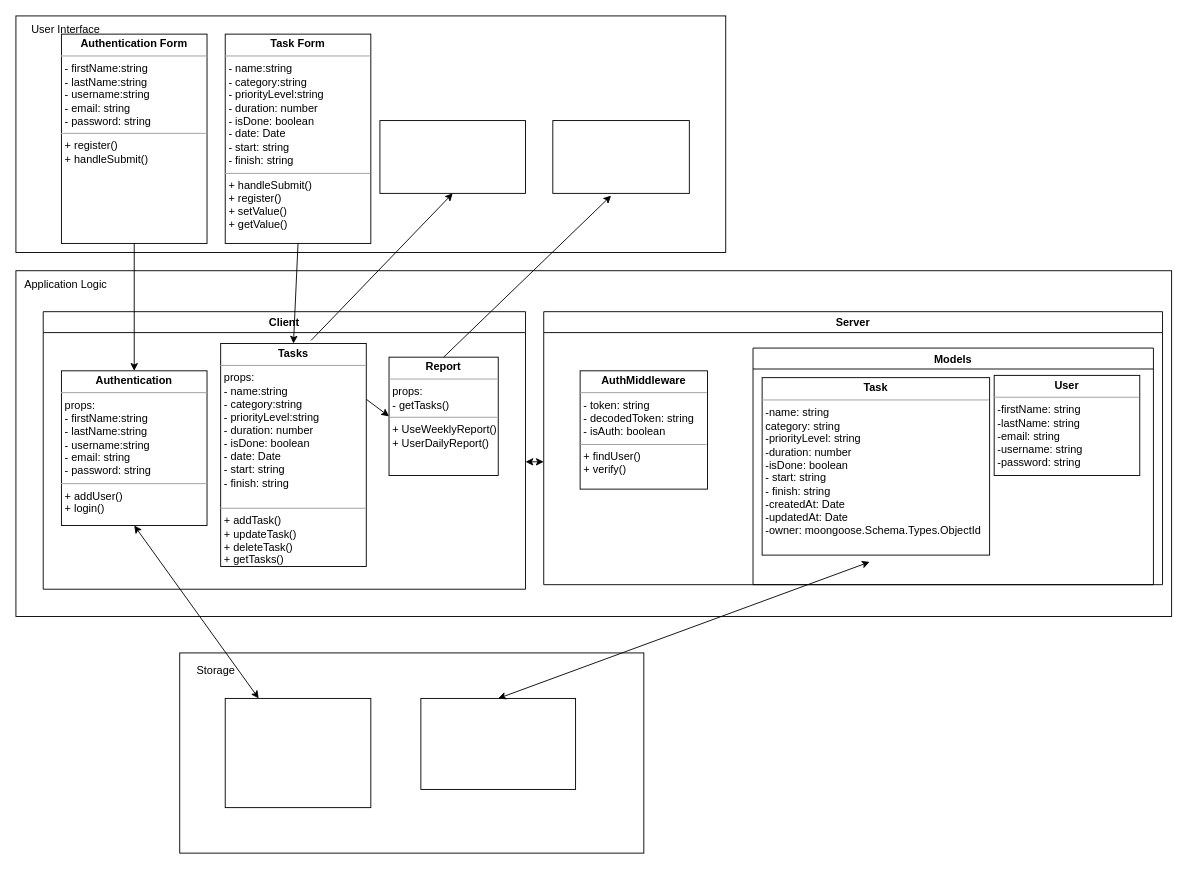
Some shapes in this 1188 by 869 pixel diagram are drawn without their labels. Here are the shapes that lost their labels. From the top down, the centre of each, then its label:
At point (452, 156): "TaskCard props: - getTasks()".
At point (620, 156): "Report props: - UseWeeklyReport() - UserDailyReport()".
At point (297, 753): "Local Storage - id_token: string + getItem() + setItem() + removeItem()".
At point (498, 743): "MongoDB".
